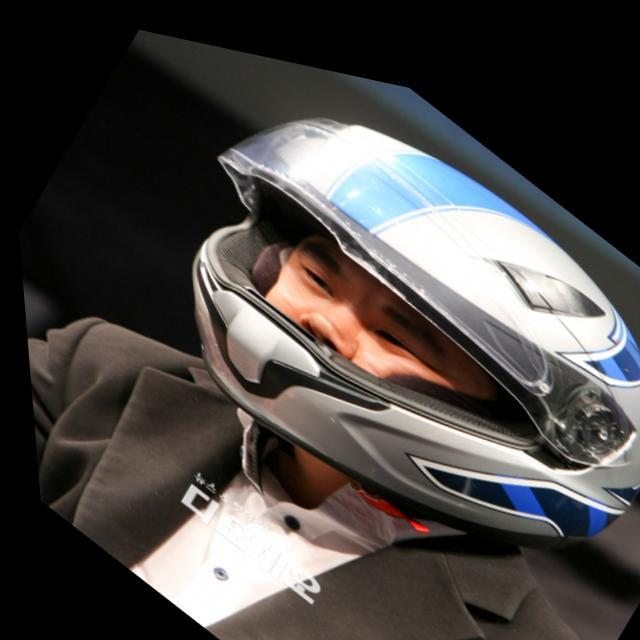Helmet: (170, 106, 638, 572)
